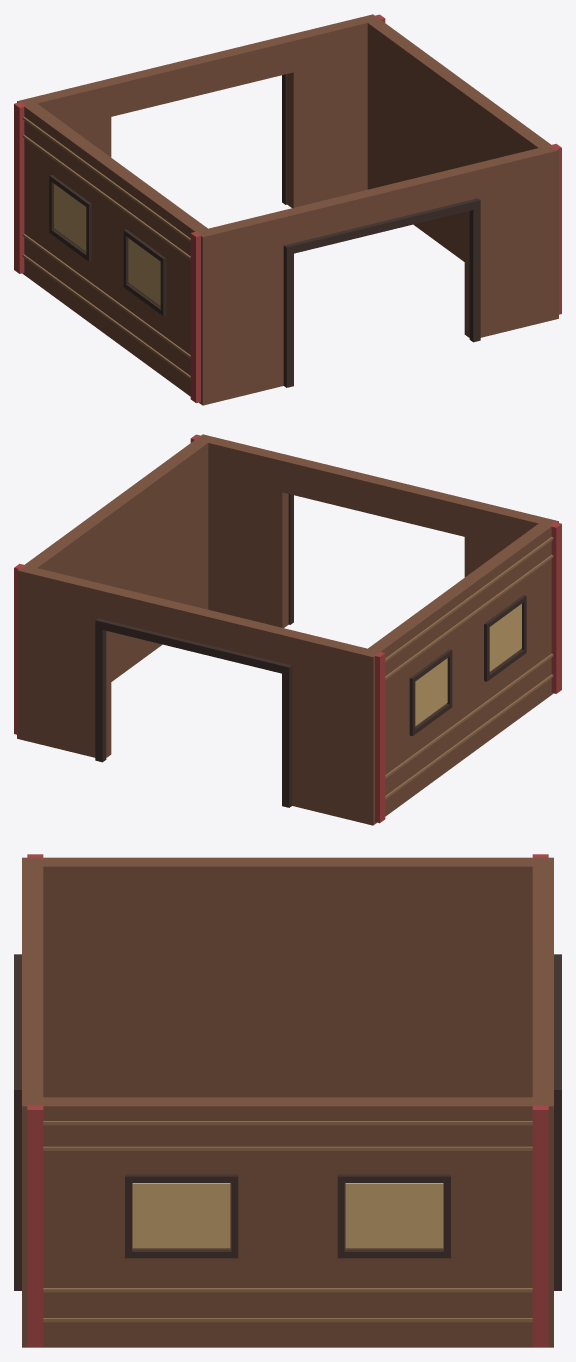
The model's file is Frosty_LodgeGatehouse_Standard.glb.
3 views of the same model, one above another, from view 1: azimuth 30°, elevation 25°; view 2: azimuth 150°, elevation 25°; view 3: azimuth 270°, elevation 25° (orthographic). The views are drawn at different scales.
Visible parts, largest first — view 1: Frosty_LodgeGatehouse_Standard; view 2: Frosty_LodgeGatehouse_Standard; view 3: Frosty_LodgeGatehouse_Standard.
Part boxes in pixels (<box>): Frosty_LodgeGatehouse_Standard: <box>14,14,561,405</box>; Frosty_LodgeGatehouse_Standard: <box>14,434,561,825</box>; Frosty_LodgeGatehouse_Standard: <box>14,854,561,1347</box>.
Bounding box in the file's own units: 6.82 × 3 × 6.18.
